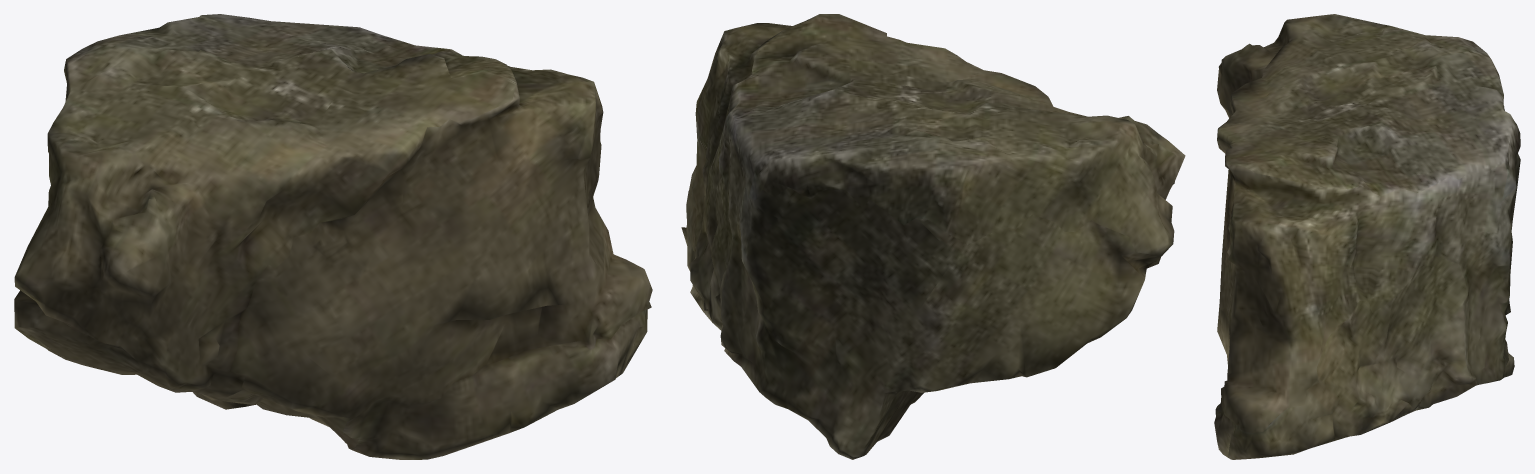
File: rock13.glb
3 views of the same model, side by side, from view 1: azimuth 30°, elevation 25°; view 2: azimuth 150°, elevation 25°; view 3: azimuth 270°, elevation 25° (orthographic). The views are drawn at different scales.
Visible parts, largest first — view 1: rock_moss_set_02_rock13; view 2: rock_moss_set_02_rock13; view 3: rock_moss_set_02_rock13.
Part boxes in pixels (left/top/right/bottom): rock_moss_set_02_rock13: left=14, top=14, right=652, bottom=459; rock_moss_set_02_rock13: left=681, top=14, right=1185, bottom=459; rock_moss_set_02_rock13: left=1214, top=14, right=1520, bottom=459.
Size of the model in its own units: 2.2 by 1.32 by 1.2.
1 material, 1 textured.
